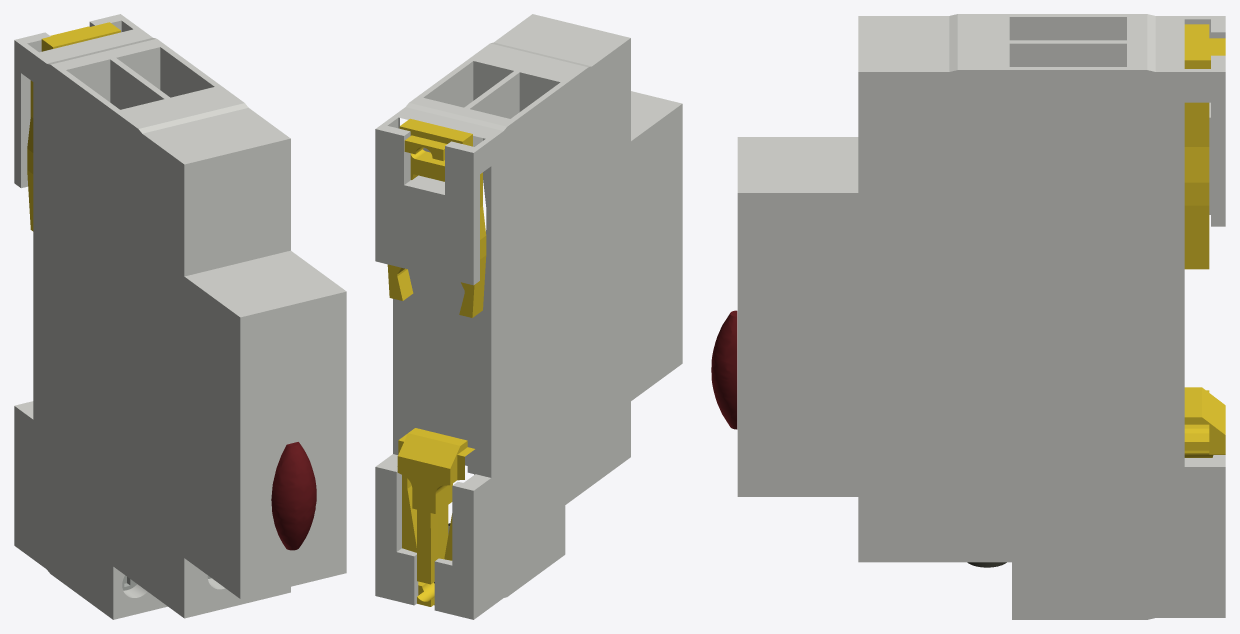
Rendered from schneider-acti9-iil-3p.glb.
3 renders of one model, left to right at view 1: azimuth 30°, elevation 25°; view 2: azimuth 150°, elevation 25°; view 3: azimuth 270°, elevation 25°, orthographic. The views are drawn at different scales.
Visible parts, largest first — view 1: acti9_body, acti9_clip_upper, acti9_lens_2, acti9_lens_3, acti9_lens_1; view 2: acti9_body, acti9_clip_lower, acti9_clip_upper; view 3: acti9_body, acti9_clip_upper, acti9_clip_lower, acti9_lens_2, acti9_lens_3.
Part boxes in pixels (x1,y1,x2,y2): acti9_body: (14, 14, 346, 619); acti9_clip_upper: (27, 22, 120, 231); acti9_lens_2: (271, 478, 316, 521); acti9_lens_3: (273, 442, 314, 487); acti9_lens_1: (273, 515, 314, 550); acti9_body: (375, 14, 682, 619); acti9_clip_lower: (397, 428, 474, 606); acti9_clip_upper: (387, 118, 486, 317); acti9_body: (737, 14, 1225, 619); acti9_clip_upper: (1184, 24, 1225, 269); acti9_clip_lower: (1184, 387, 1225, 457); acti9_lens_2: (711, 351, 737, 398); acti9_lens_3: (713, 310, 737, 361).
Size of the model in its own units: 0.0178 by 0.0817 by 0.069.
